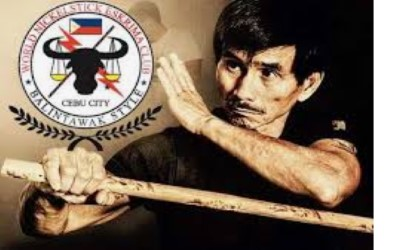baston_e: (107, 166, 359, 239)
baston_v: (0, 149, 35, 191), (362, 211, 391, 240)
